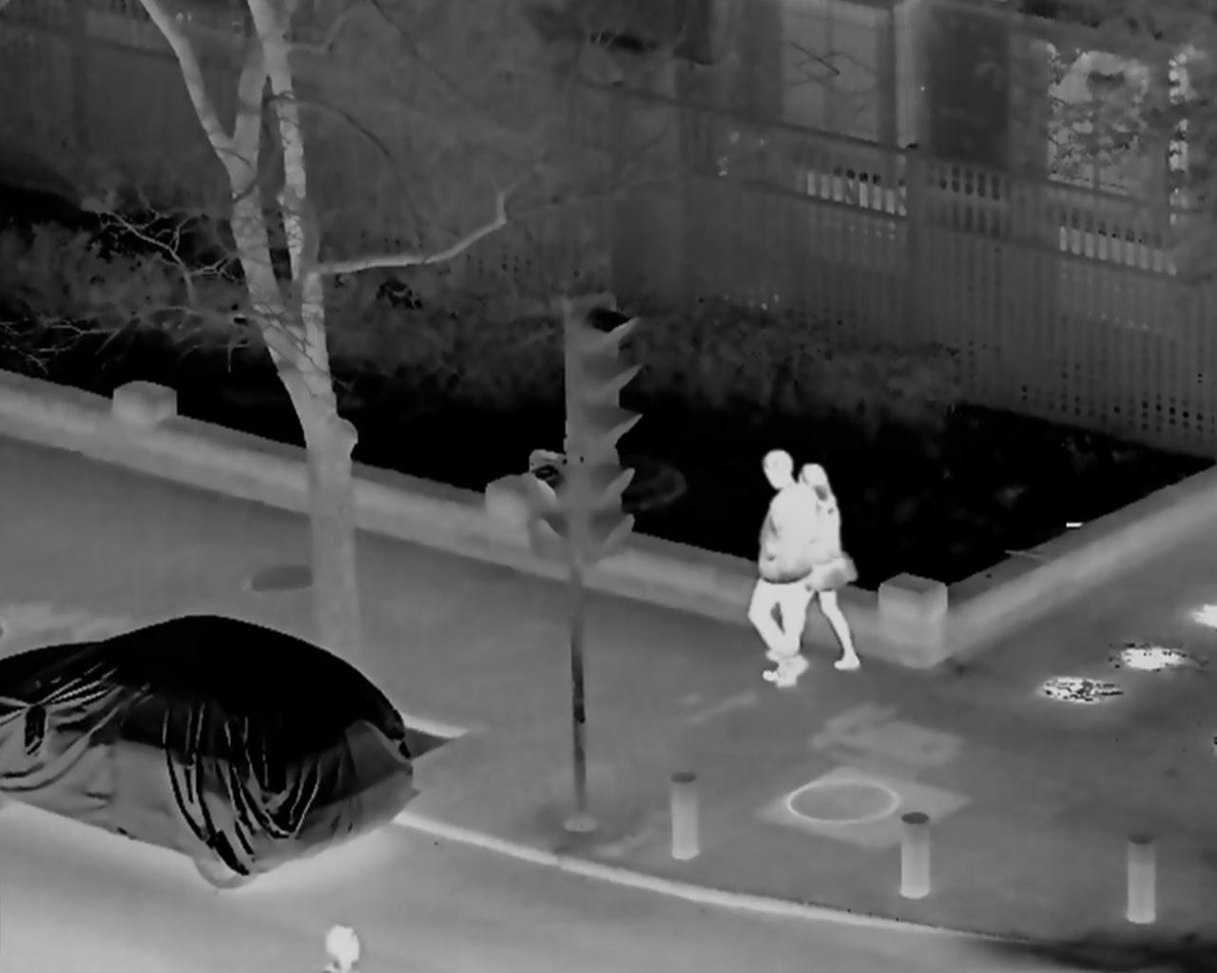person: (780, 465, 868, 678), (738, 445, 805, 690)
